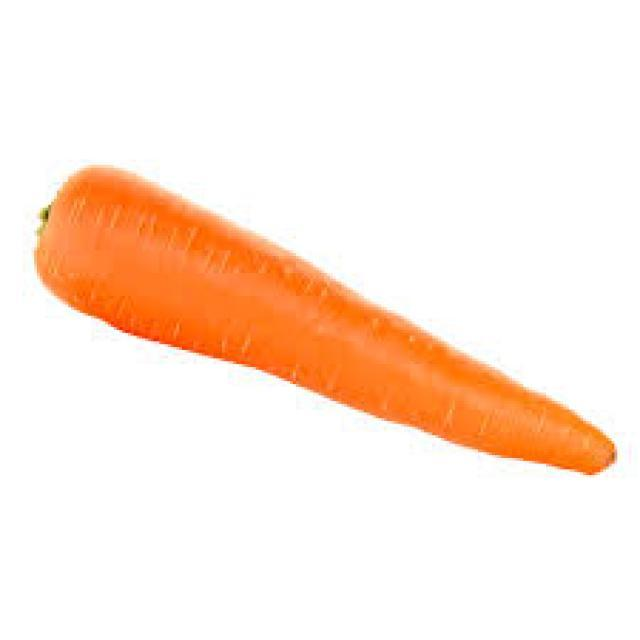Carrot: (29, 160, 615, 484)
